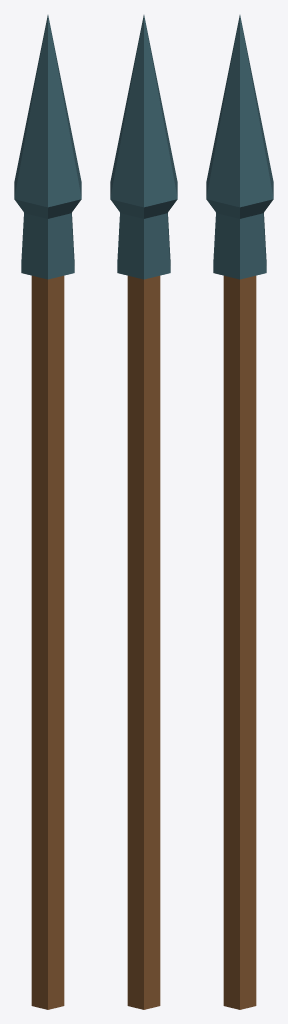
Rendered from Spear.fbx.
The picture shows the model from 3 angles, left to right: view 1: azimuth 90°, elevation 25°; view 2: azimuth 150°, elevation 25°; view 3: azimuth 270°, elevation 25°; orthographic projection.
Visible parts, largest first — view 1: Weapon052; view 2: Weapon052; view 3: Weapon052.
Part boxes in pixels (box(x1,y1,x2,y2)): Weapon052: box(14, 15, 81, 1009); Weapon052: box(110, 15, 177, 1009); Weapon052: box(206, 15, 273, 1009).
Size of the model in its own units: 16.61 by 232 by 14.39.
